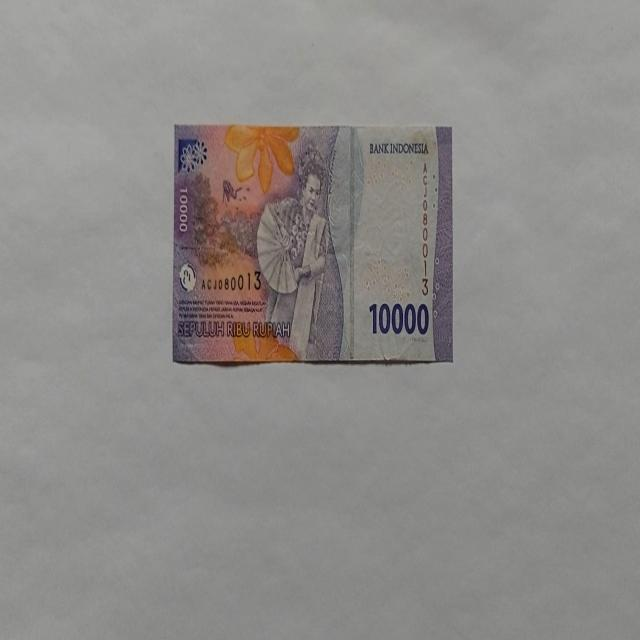sepuluh ribu rupiah: (172, 121, 454, 366)
